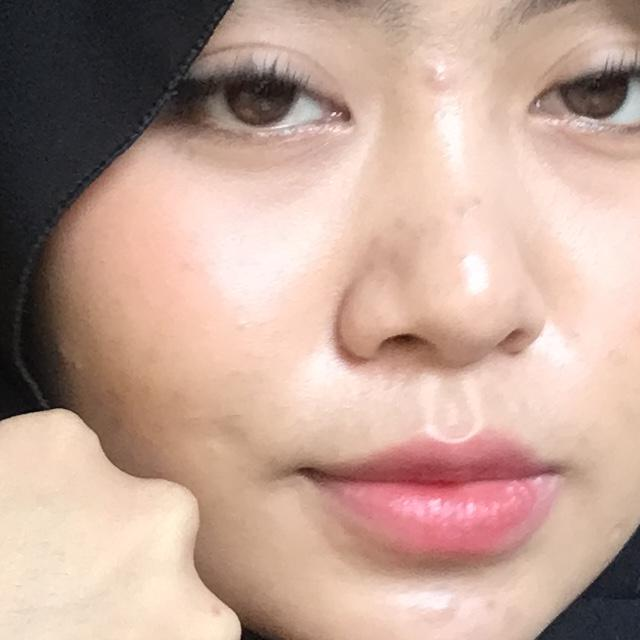telpon: (0, 96, 610, 640)
